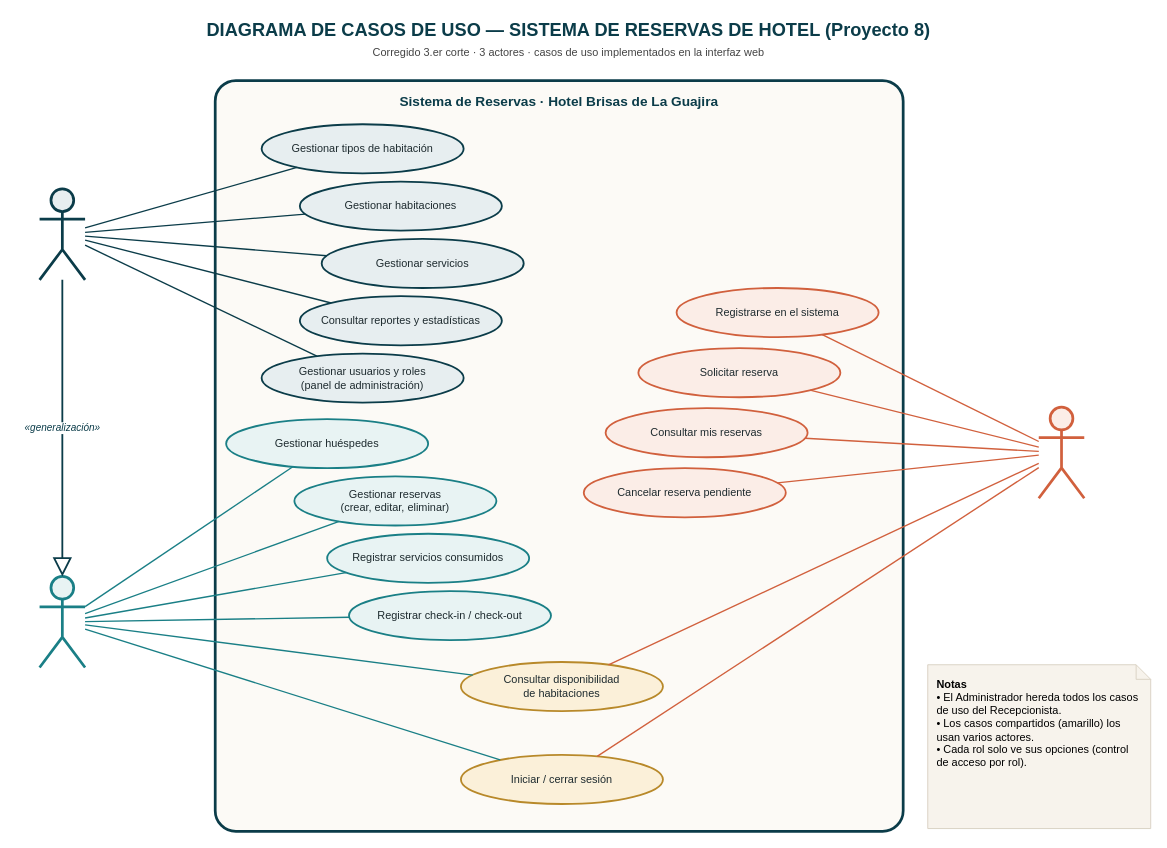
The diagram is 1167 pixels wide and 848 high, and some of its shapes have lost their labels. The centre of each missing label's shape, as x and y in pixels:
"Administrador" goes at point 62,234.
"Huésped" goes at point 1061,452.
"Recepcionista" goes at point 62,621.
